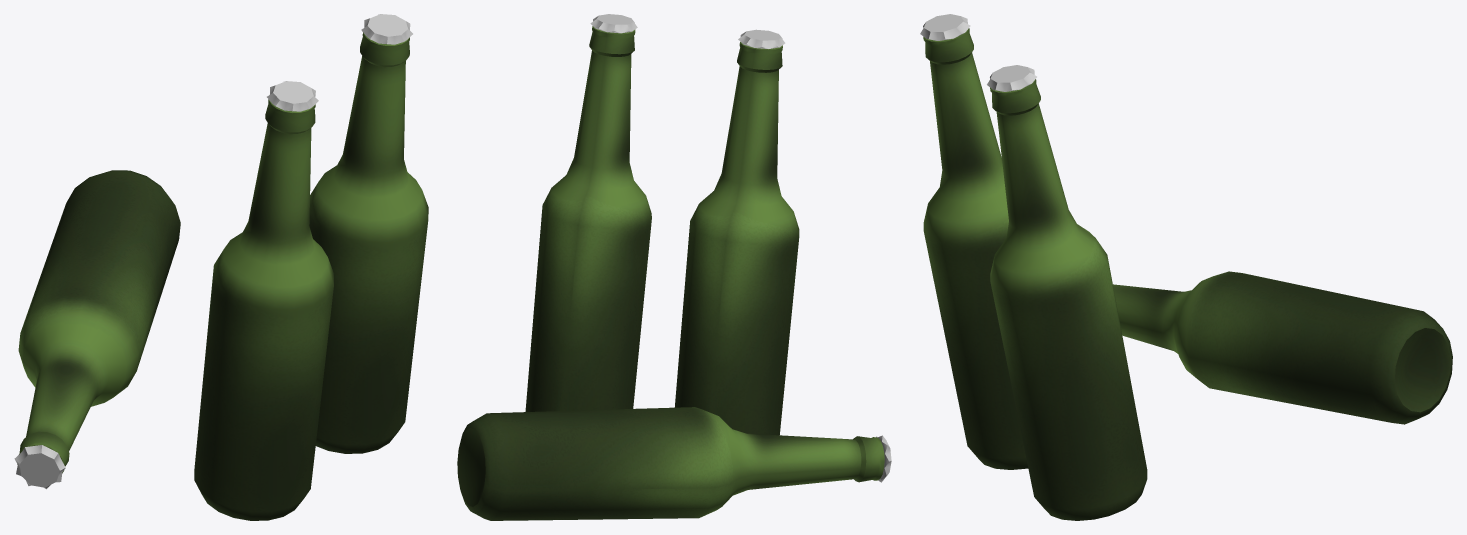
The model's file is soju7.obj.
3 renders of one model, left to right at view 1: azimuth 30°, elevation 25°; view 2: azimuth 150°, elevation 25°; view 3: azimuth 270°, elevation 25°, orthographic. The views are drawn at different scales.
Size of the model in its own units: 6.48 by 7.22 by 7.79.
